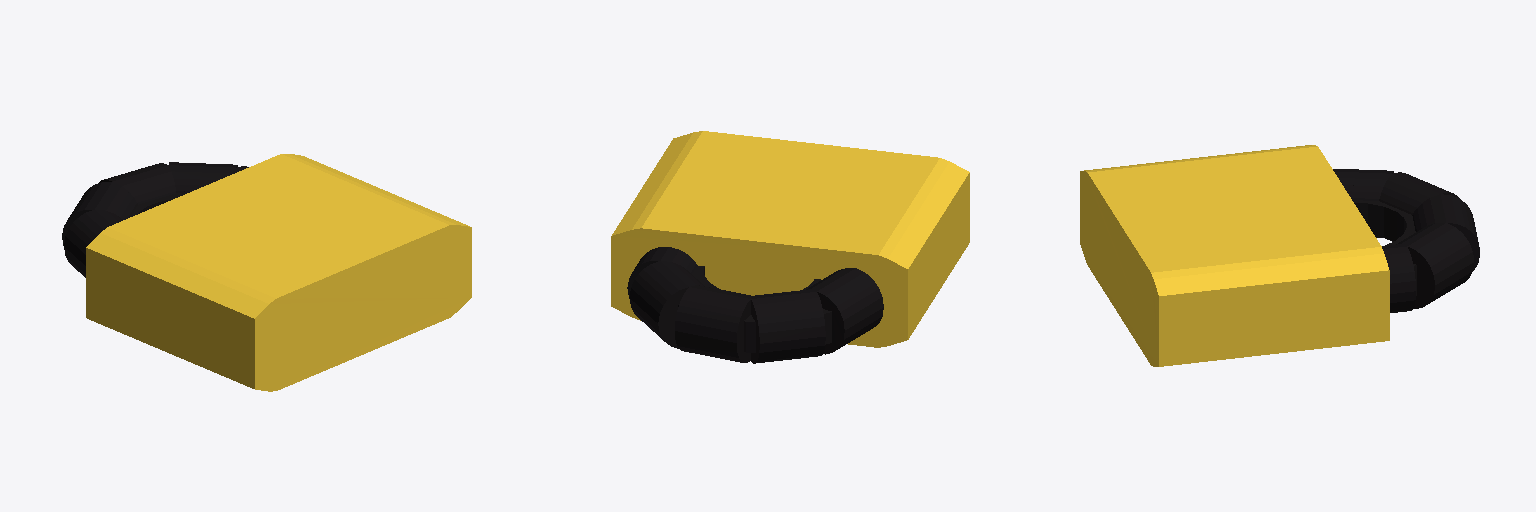
File: Lock.obj
3 renders of one model, left to right at view 1: azimuth 30°, elevation 25°; view 2: azimuth 150°, elevation 25°; view 3: azimuth 270°, elevation 25°, orthographic.
Visible parts, largest first — view 1: Intersection1, Lock1; view 2: Intersection1, Lock1; view 3: Intersection1, Lock1.
Part boxes in pixels (x1,y1,x2,y2): Intersection1: (86,154,471,391); Lock1: (62,162,248,277); Intersection1: (611,131,969,347); Lock1: (627,247,883,363); Intersection1: (1080,145,1389,366); Lock1: (1333,169,1479,312).
Bounding box in the file's own units: 0.5252 × 0.15 × 0.5875.